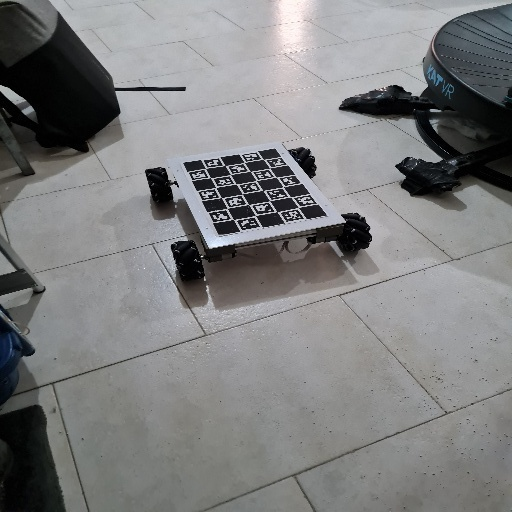Omniwheel: (147, 140, 375, 282)
